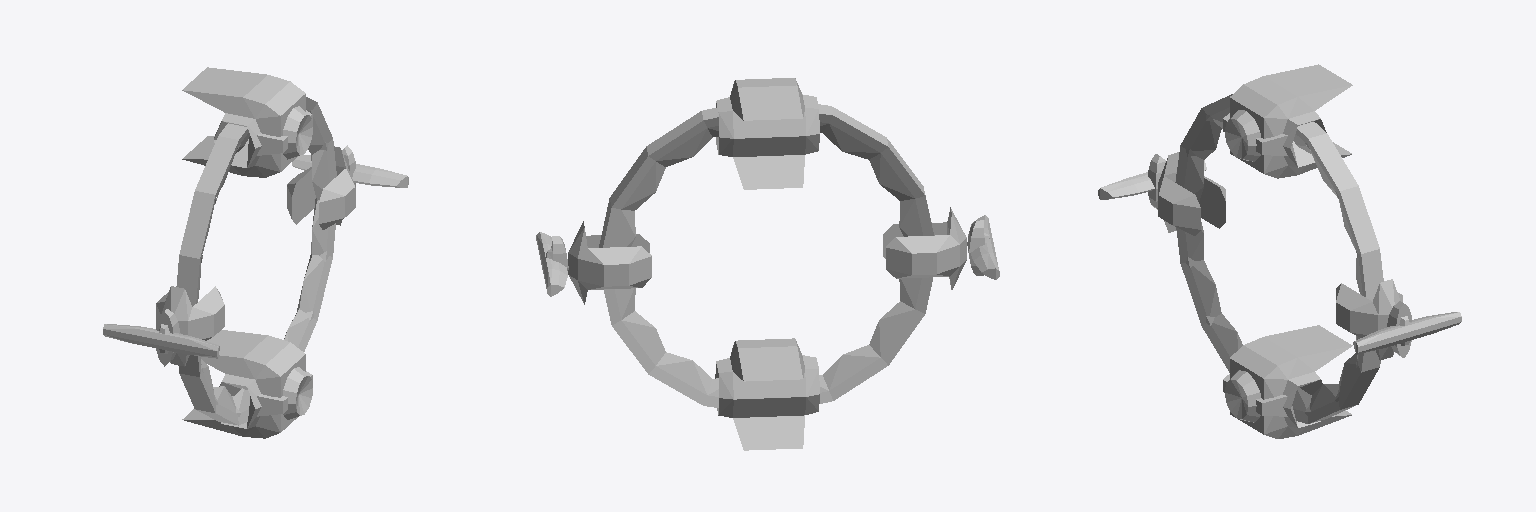
The model's file is stg300_MotGate_d2_04.obj.
3 renders of one model, left to right at view 1: azimuth 30°, elevation 25°; view 2: azimuth 150°, elevation 25°; view 3: azimuth 270°, elevation 25°, orthographic.
Parts seen in each view (by area): view 1: polygon0, polygon6, polygon7, polygon2, polygon1, polygon5, polygon3; view 2: polygon0, polygon7, polygon6, polygon1, polygon3, polygon5, polygon4, polygon2; view 3: polygon0, polygon6, polygon7, polygon1, polygon4, polygon3, polygon5.
Part boxes in pixels (left/top/right/bottom): polygon0: left=156, top=67, right=354, bottom=438; polygon6: left=176, top=97, right=336, bottom=425; polygon7: left=198, top=109, right=329, bottom=413; polygon2: left=103, top=309, right=219, bottom=366; polygon1: left=214, top=115, right=355, bottom=415; polygon5: left=292, top=154, right=406, bottom=187; polygon3: left=106, top=322, right=218, bottom=353; polygon0: left=568, top=78, right=966, bottom=450; polygon7: left=613, top=122, right=922, bottom=396; polygon6: left=599, top=104, right=933, bottom=407; polygon1: left=604, top=253, right=936, bottom=286; polygon3: left=967, top=215, right=995, bottom=271; polygon5: left=540, top=232, right=568, bottom=287; polygon4: left=536, top=232, right=565, bottom=296; polygon2: left=969, top=215, right=999, bottom=279; polygon0: left=1158, top=64, right=1402, bottom=438; polygon6: left=1175, top=94, right=1383, bottom=423; polygon7: left=1184, top=107, right=1362, bottom=411; polygon1: left=1158, top=119, right=1349, bottom=418; polygon4: left=1353, top=301, right=1461, bottom=357; polygon3: left=1101, top=160, right=1206, bottom=201; polygon5: left=1355, top=312, right=1457, bottom=346.
Bounding box in the file's own units: 236 × 199 × 193.